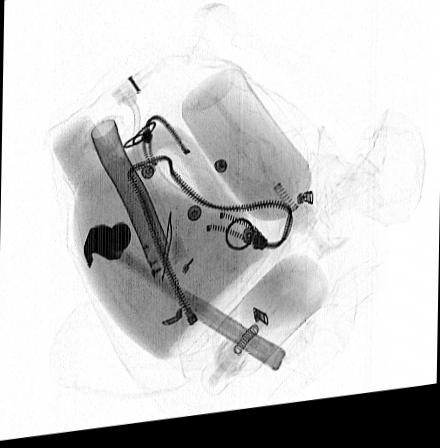Hammer: (80, 226, 285, 380)
